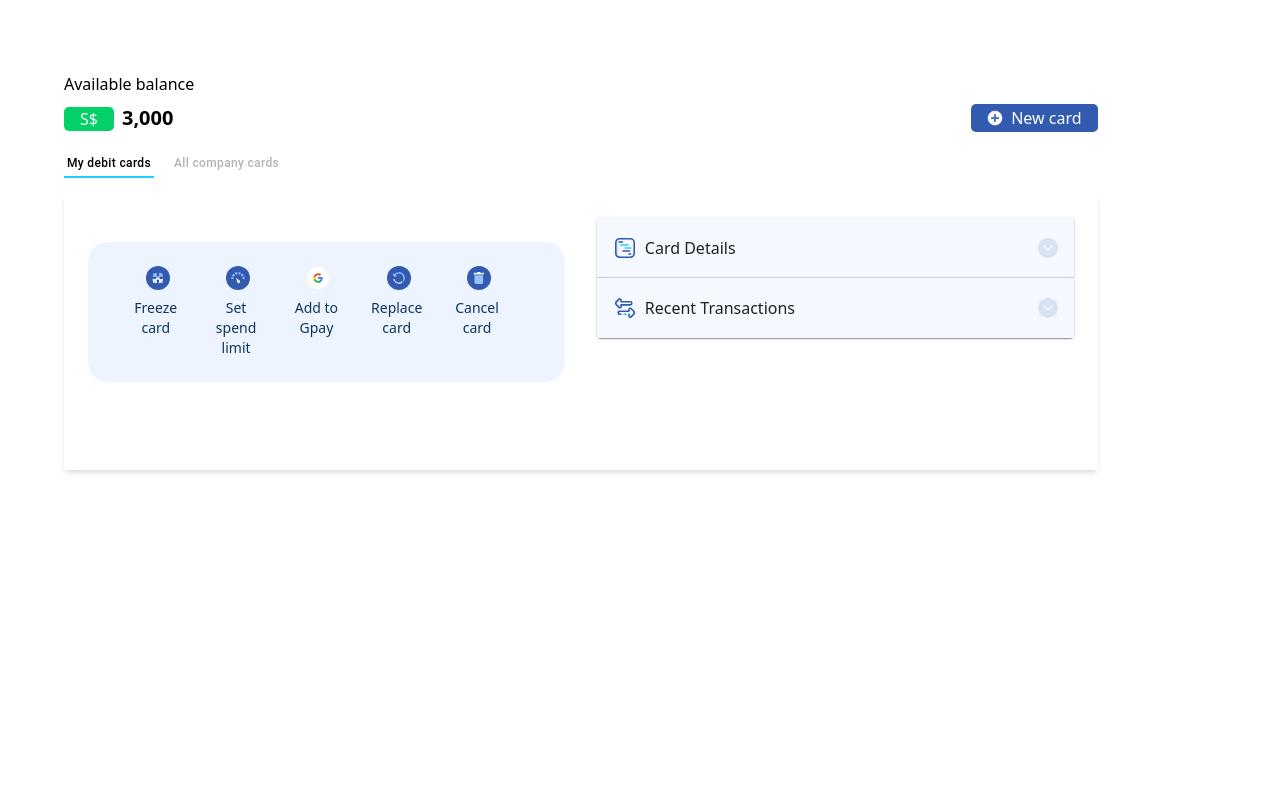
Test case: CardsPage › opens the modal when the plus icon is clicked
Click the picture with alt text "Add new card". click: (995, 118)
box: x1=987 y1=110 x2=1003 y2=126
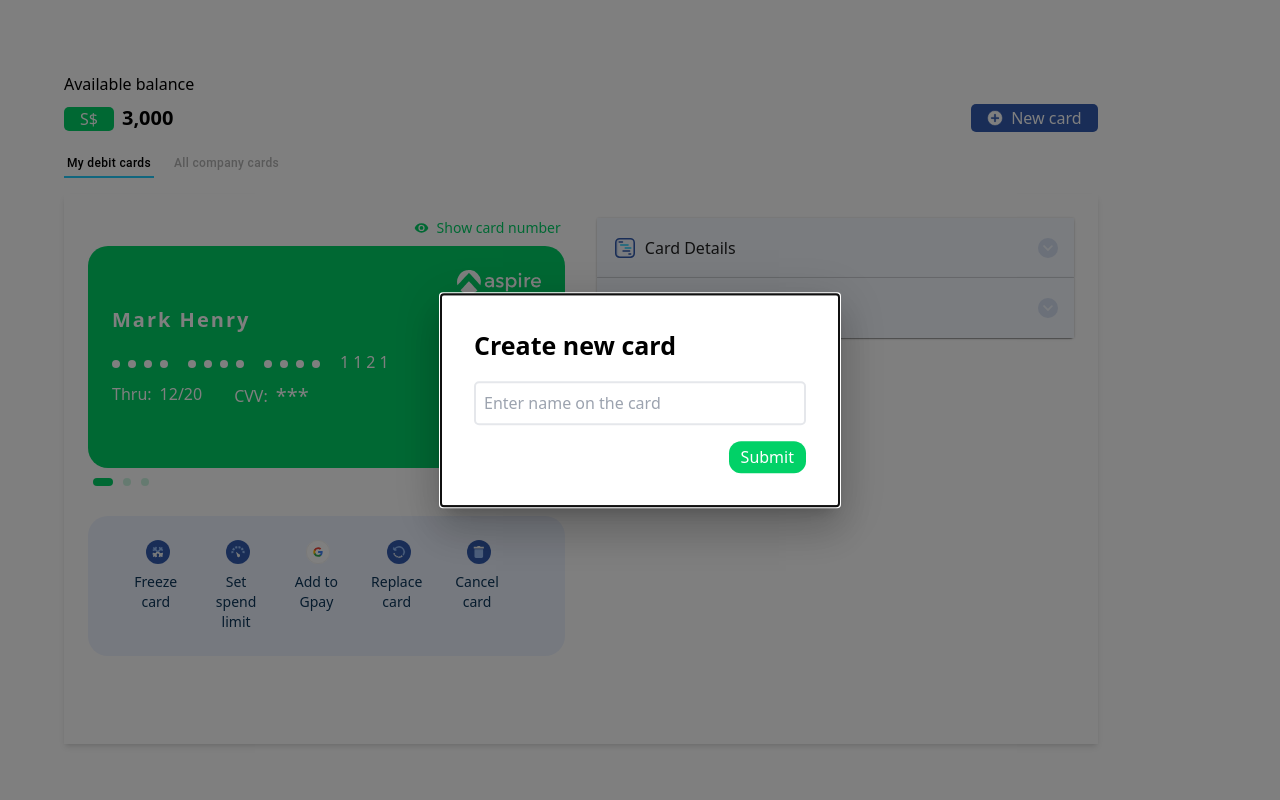
Now the element with test id "add-new-card-modal" is shown, box x1=474 y1=327 x2=806 y2=473
